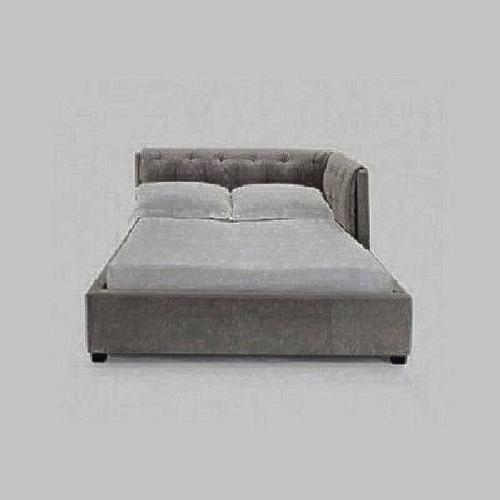sofa: (103, 147, 395, 358)
